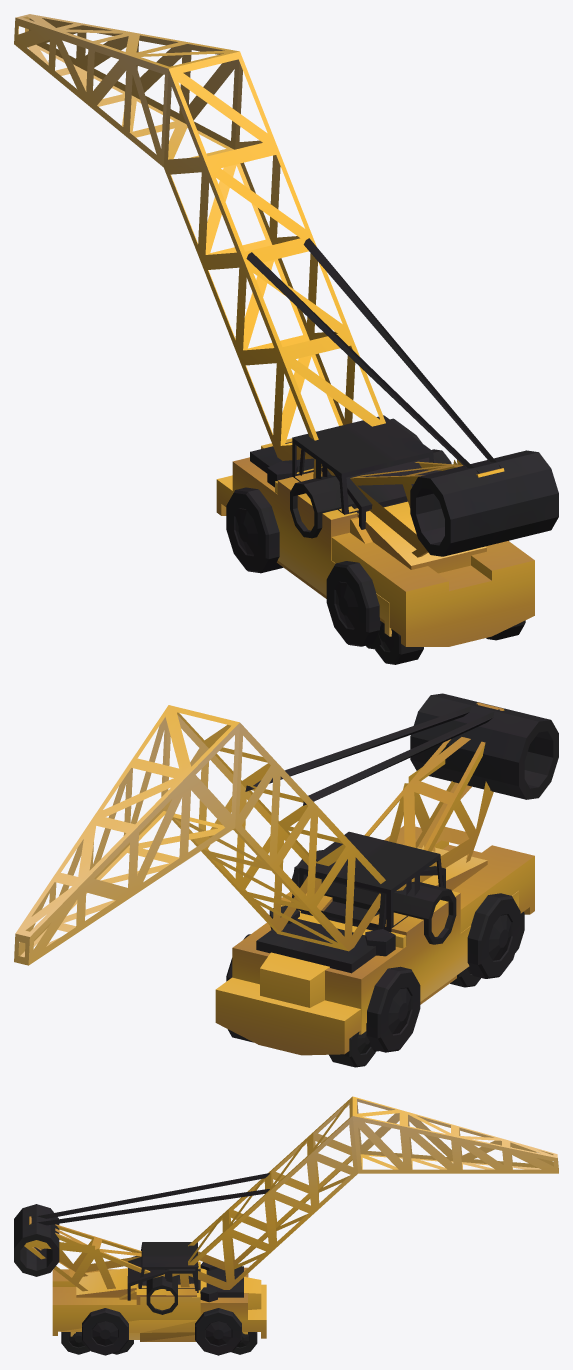
File: cars.FBX
3 renders of one model, top to bottom at view 1: azimuth 30°, elevation 25°; view 2: azimuth 150°, elevation 25°; view 3: azimuth 270°, elevation 25°, orthographic. The views are drawn at different scales.
Visible parts, largest first — view 1: crane, truck, car; view 2: crane, truck, car; view 3: crane, truck, car.
Part boxes in pixels (<box>): crane: <box>14,14,558,646</box>; truck: <box>216,418,534,664</box>; car: <box>232,415,486,649</box>; crane: <box>14,693,558,1052</box>; truck: <box>215,826,534,1067</box>; car: <box>232,831,518,1051</box>; crane: <box>14,1096,558,1355</box>; truck: <box>52,1256,266,1354</box>; car: <box>70,1242,248,1339</box>.
Size of the model in its own units: 4.17 by 10.24 by 21.84.
